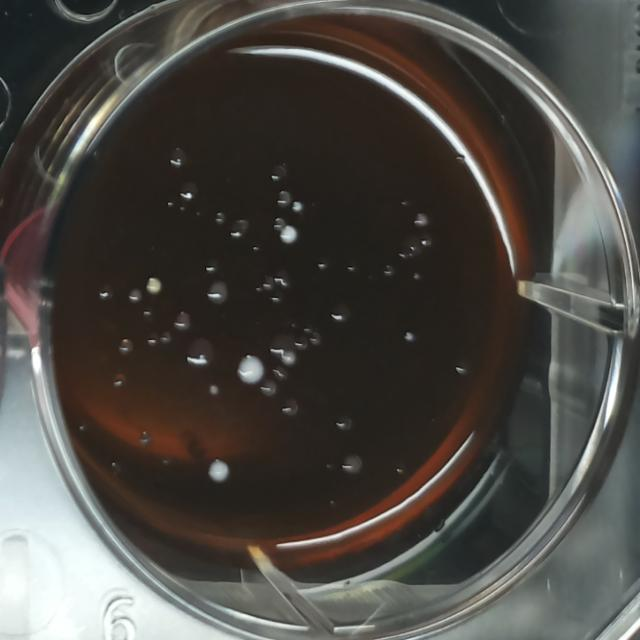Staphylococcus: (233, 351, 267, 387), (204, 455, 232, 486), (278, 224, 298, 246), (144, 276, 164, 297), (280, 349, 297, 369), (290, 198, 305, 216), (402, 330, 417, 344), (411, 270, 421, 282)
Vibrio: (183, 334, 217, 371), (328, 300, 352, 326), (268, 333, 293, 357), (178, 178, 199, 202)
